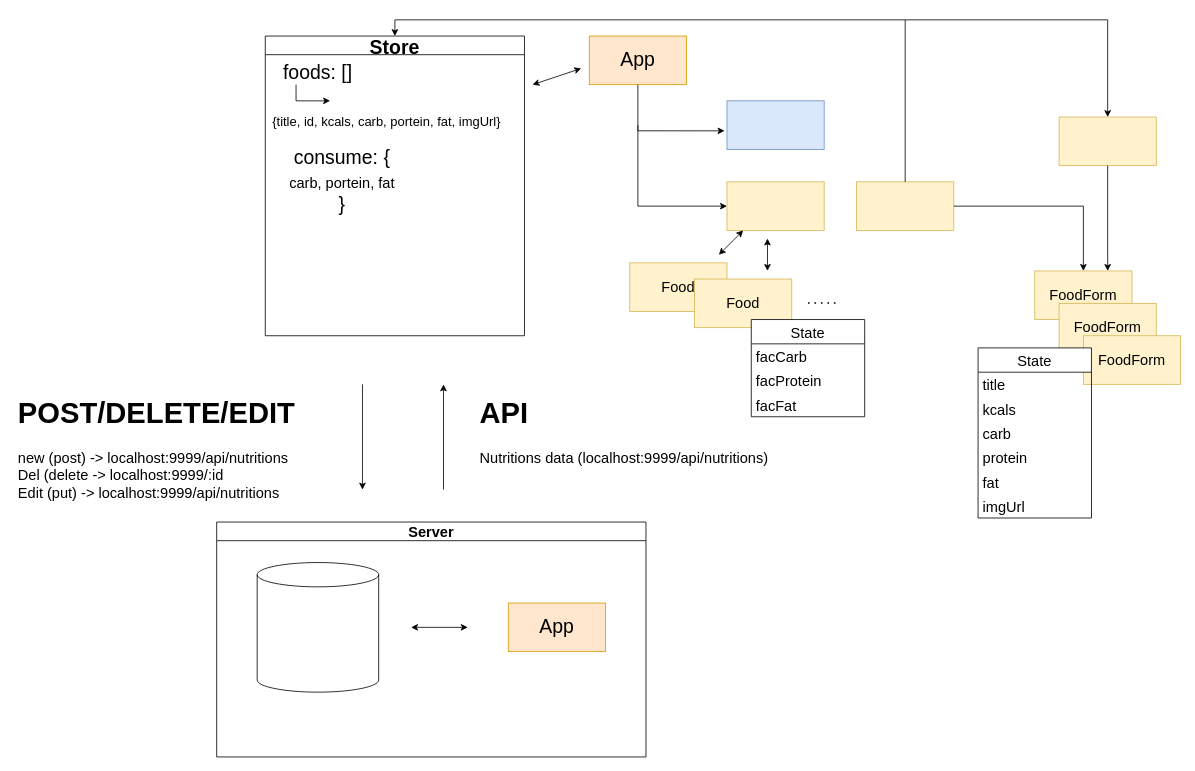
The diagram is 1195 pixels wide and 771 high, and some of its shapes have lost their labels. The shapes that lost their labels are listed below. From the top down, each one's centre as x and y in pixels, then its label:
[775,124]: Header
[1107,141]: EditFood
[775,205]: FoodList
[905,205]: AddFood
[317,627]: MongoDB (Nutritions)
